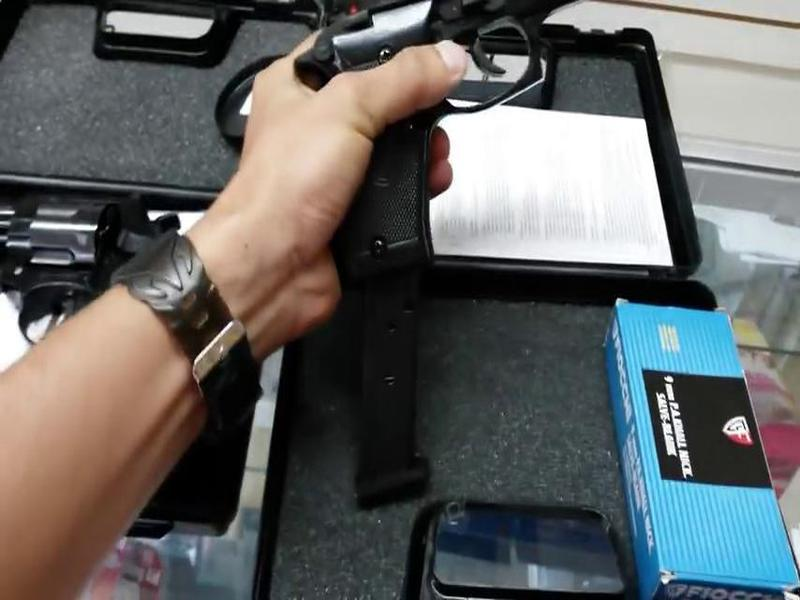Pistola: (307, 13, 570, 188)
